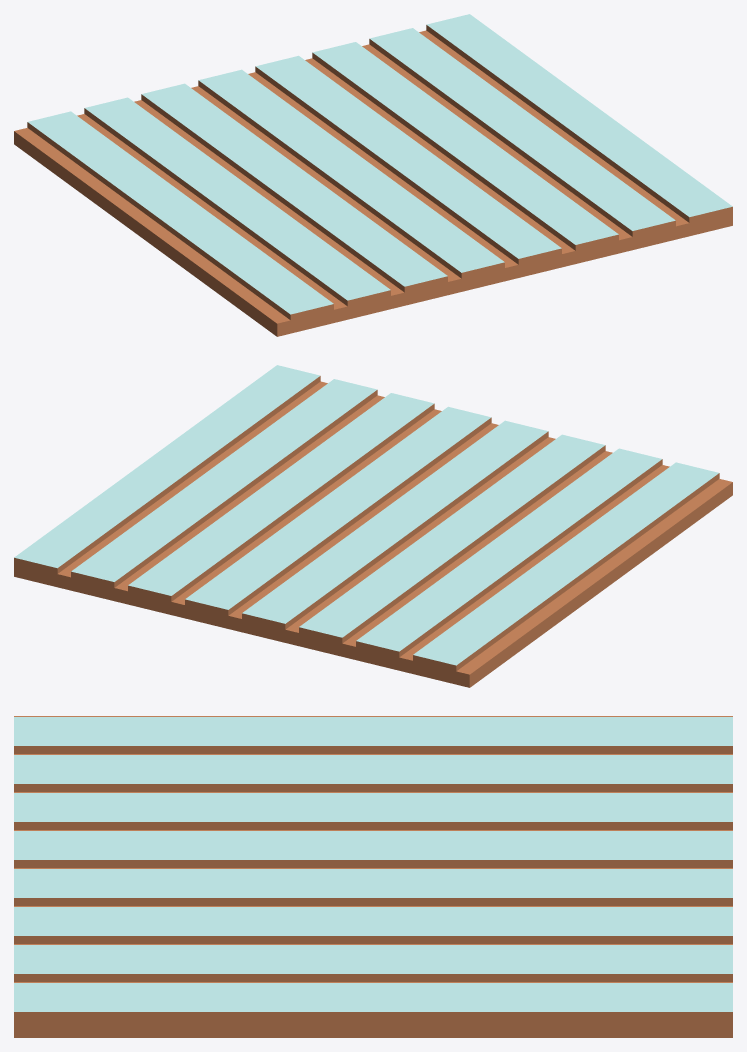
The model's file is cabinRoofFlat.fbx.
3 renders of one model, top to bottom at view 1: azimuth 30°, elevation 25°; view 2: azimuth 150°, elevation 25°; view 3: azimuth 270°, elevation 25°, orthographic. The views are drawn at different scales.
Parts seen in each view (by area): view 1: cabinRoofFlat; view 2: cabinRoofFlat; view 3: cabinRoofFlat.
Part boxes in pixels (x1,y1,x2,y2): cabinRoofFlat: [14, 14, 732, 336]; cabinRoofFlat: [14, 365, 732, 687]; cabinRoofFlat: [14, 716, 732, 1037].
Bounding box in the file's own units: 10 × 0.4 × 10.
